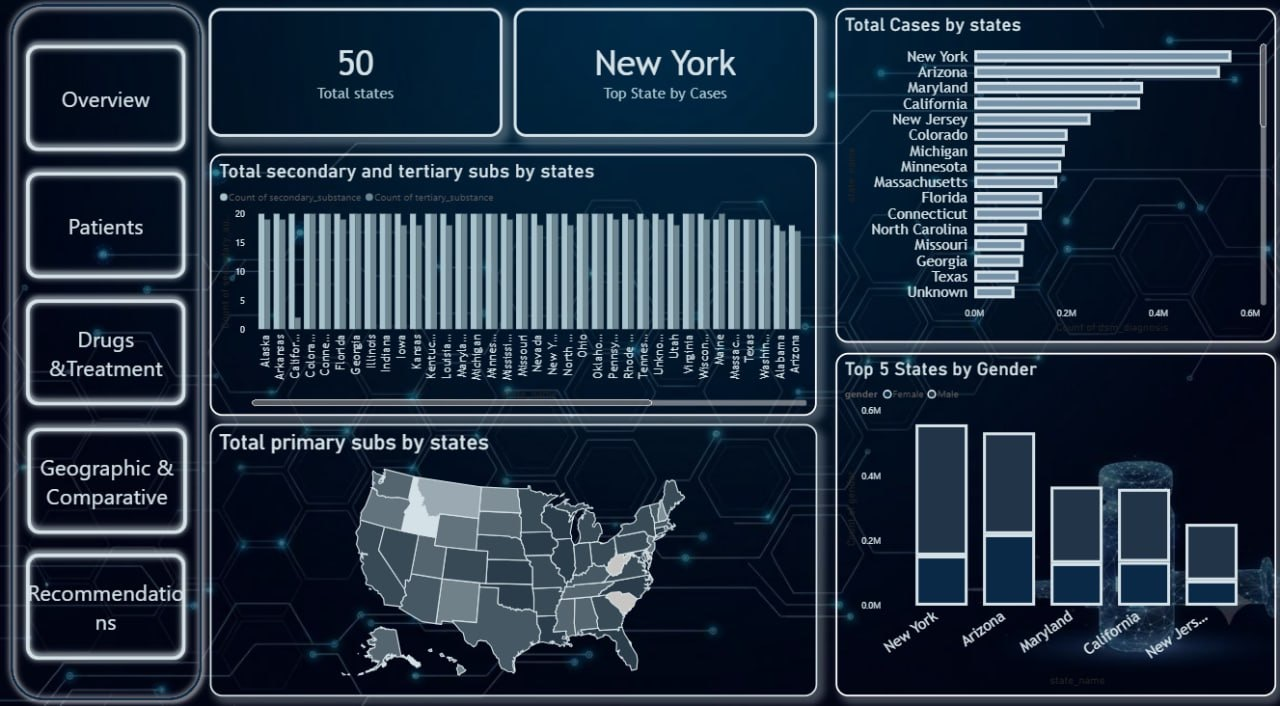

The dashboard page shown, as its layout file describes it:
{"tool":"powerbi","page":{"name":"Geographic & Comparative","canvas":[1750,960],"ordinal":3},"visuals":[{"type":"shape","box":[11.4,0,277.2,960.3],"z":0},{"type":"pageNavigator","box":[32.6,55.4,234.8,852.7],"z":1000},{"type":"clusteredBarChart","title":"Total Cases by states ","fields":{"Category":["teds_a_decoded_view.state_name"],"Y":["CountNonNull(teds_a_decoded_view.dsm_diagnosis)"]},"box":[1136,14.8,595.9,453.1],"z":2000},{"type":"shapeMap","title":"Total primary subs by states","fields":{"Category":["teds_a_decoded_view.state_name"],"Value":["Count(teds_a_decoded_view.primary_substance)"]},"box":[290.2,577.2,821.7,368.5],"z":3000},{"type":"columnChart","title":"Top 5 States by Gender","fields":{"Category":["teds_a_decoded_view.state_name"],"Y":["CountNonNull(teds_a_decoded_view.gender)"],"Series":["teds_a_decoded_view.gender"]},"box":[1136,481,595.9,464.6],"z":4000},{"type":"clusteredColumnChart","title":"Total secondary and tertiary subs by states ","fields":{"Category":["teds_a_decoded_view.state_name"],"Y":["Count(teds_a_decoded_view.secondary_substance)","Count(teds_a_decoded_view.tertiary_substance)"]},"box":[290.6,211.8,820.8,354.6],"z":5000},{"type":"cardVisual","fields":{"Data":["Count(teds_a_decoded_view.state_name)"]},"box":[288.9,14.8,397.3,174],"z":6000},{"type":"cardVisual","fields":{"Data":["Min(teds_a_decoded_view.state_name)"]},"box":[701,14.8,410.4,174],"z":7000}]}

Visuals, with their boxes in screenshot pixels (x1, y1, x2, y2), scaled from the page's 1750x960 canvas onto the 1280x706 screenshot:
shape: detection(8, 0, 211, 705)
pageNavigator: detection(24, 41, 196, 668)
"Total Cases by states " clusteredBarChart: detection(831, 11, 1267, 344)
"Total primary subs by states" shapeMap: detection(212, 424, 813, 695)
"Top 5 States by Gender" columnChart: detection(831, 354, 1267, 695)
"Total secondary and tertiary subs by states " clusteredColumnChart: detection(213, 156, 813, 417)
cardVisual - Count(teds_a_decoded_view.state_name): detection(211, 11, 502, 139)
cardVisual - Min(teds_a_decoded_view.state_name): detection(513, 11, 813, 139)
